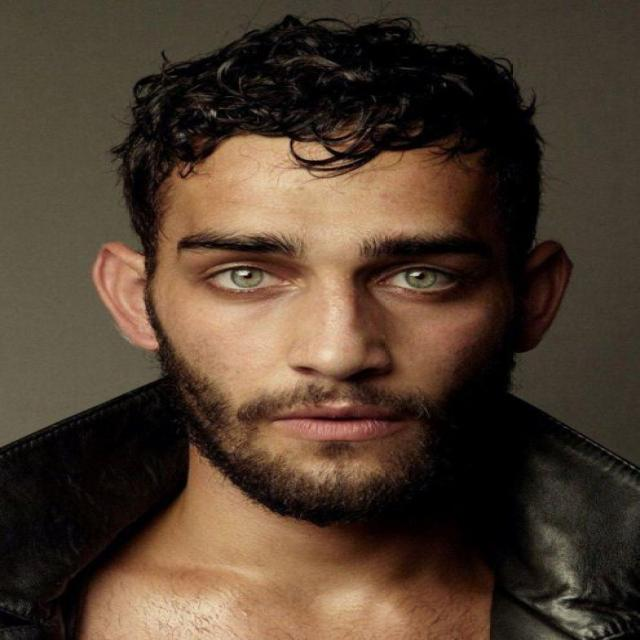earlobe: (506, 320, 536, 355), (129, 319, 159, 352)
eye: (377, 263, 461, 292), (203, 266, 291, 292)
nose: (290, 363, 390, 405)
wholeear: (508, 239, 576, 354), (90, 241, 160, 351)
